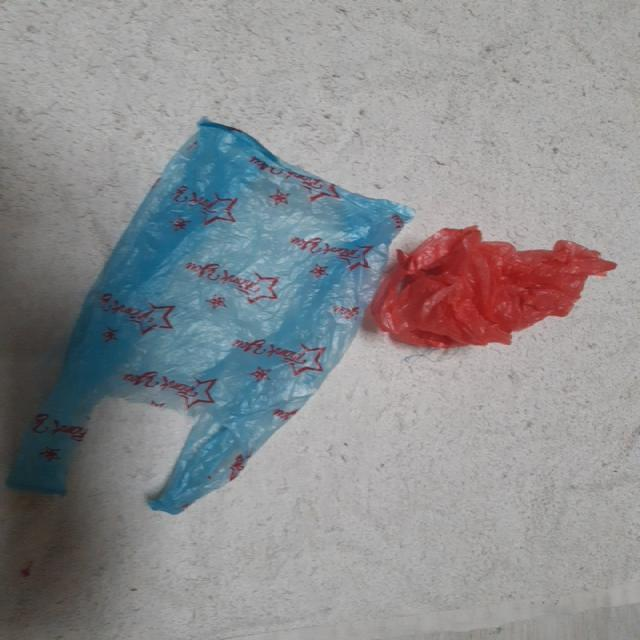Single-layer Plastic: (8, 120, 412, 513), (371, 226, 615, 347)
